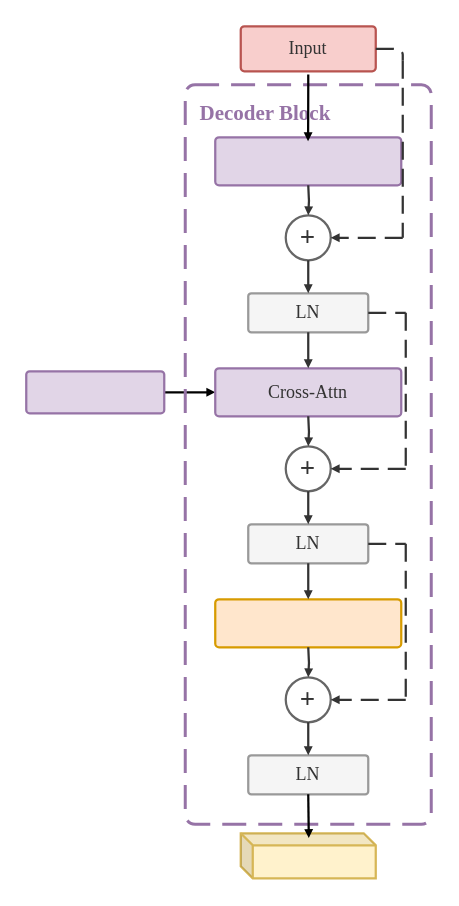
Image size: 459x906. Some labels were removed from this diagram. Here are the shapes that lost their labels. From the top down, the centre of each, then its label:
At [307,160]: "Masked Self-Attn".
At [94,391]: "Encoder Memory".
At [307,622]: "Feed Forward".
At [307,855]: "Output".
